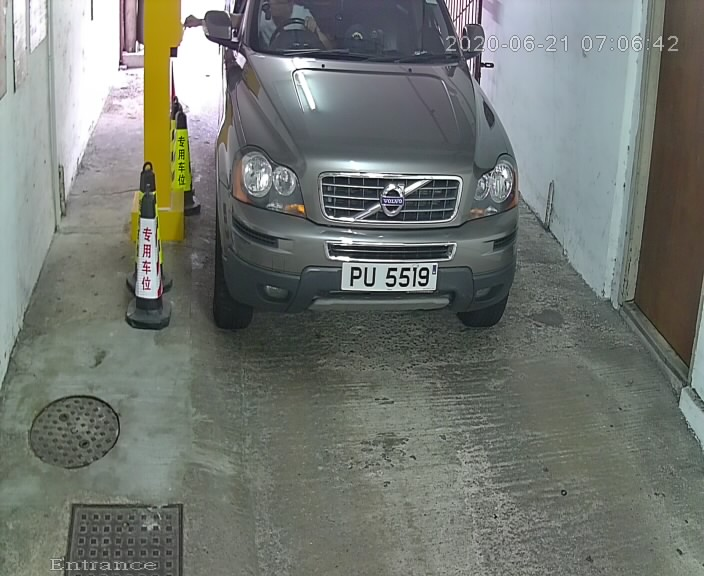privatecar: (197, 1, 538, 344)
